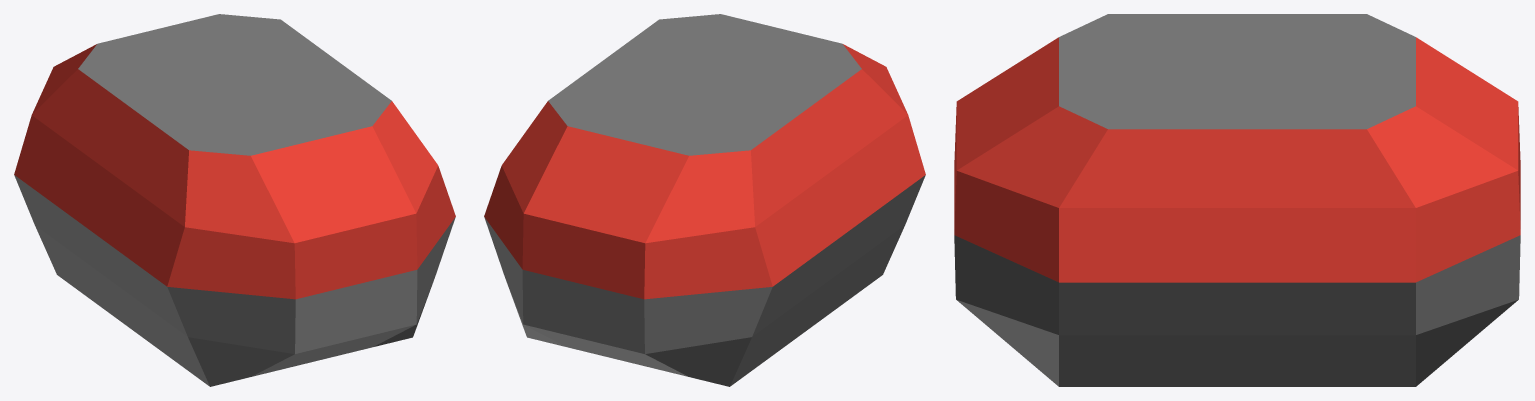
File: Snake_Body.fbx
3 views of the same model, side by side, from view 1: azimuth 30°, elevation 25°; view 2: azimuth 150°, elevation 25°; view 3: azimuth 270°, elevation 25° (orthographic). The views are drawn at different scales.
Parts seen in each view (by area): view 1: Body; view 2: Body; view 3: Body.
Part boxes in pixels (x1=…): Body: x1=14, y1=14, x2=455, y2=386; Body: x1=484, y1=14, x2=925, y2=386; Body: x1=954, y1=14, x2=1520, y2=386.
Bounding box in the file's own units: 214 × 157 × 312.
